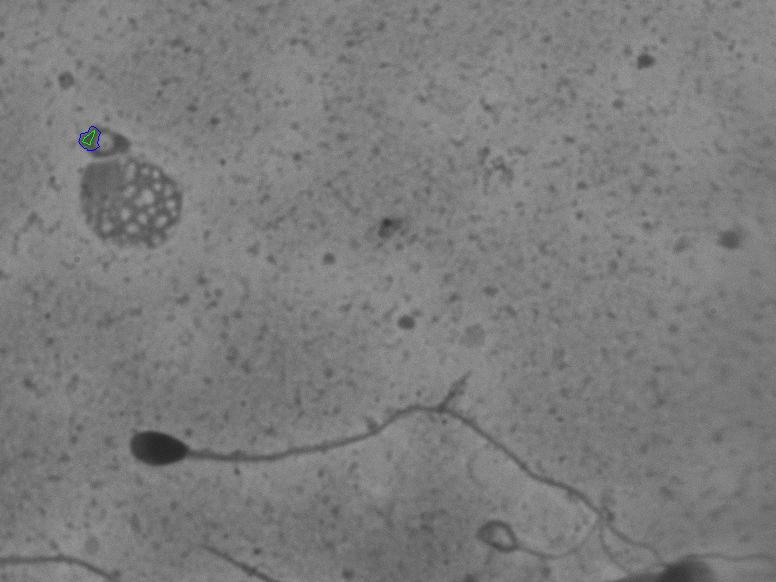Normal: (73, 338, 648, 558)
